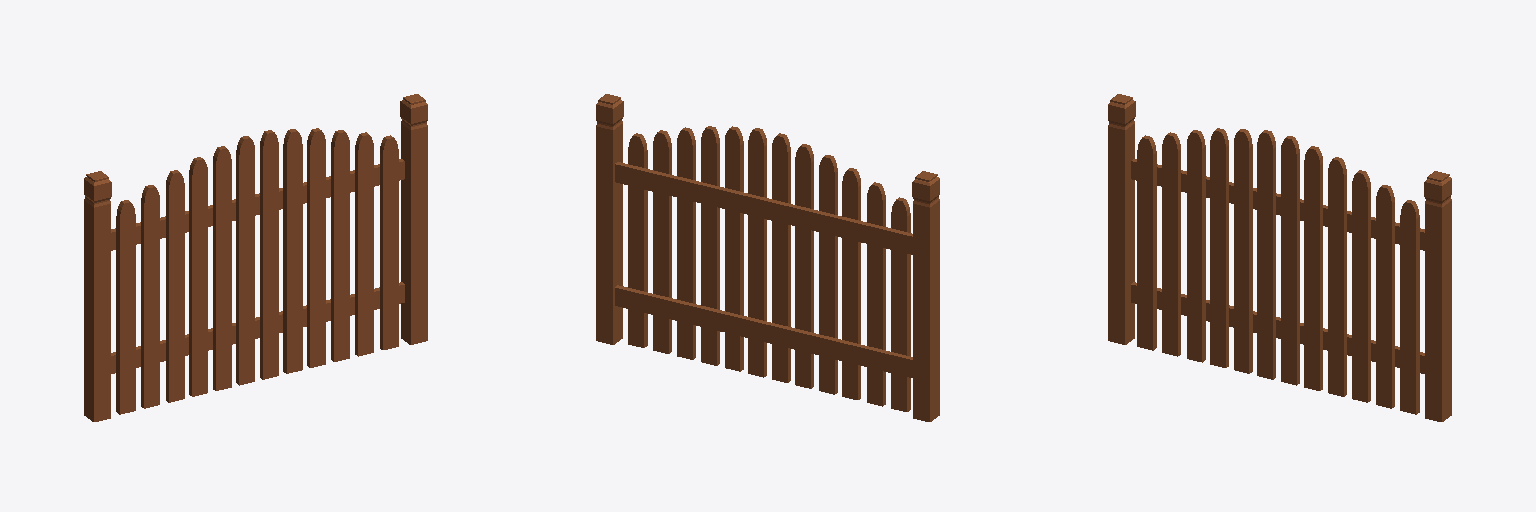
File: m_fence.obj
The picture shows the model from 3 angles: view 1: azimuth 30°, elevation 25°; view 2: azimuth 150°, elevation 25°; view 3: azimuth 330°, elevation 25°; orthographic projection.
Visible parts, largest first — view 1: fencee_Cube.016; view 2: fencee_Cube.016; view 3: fencee_Cube.016.
Part boxes in pixels (bbox=[...]): fencee_Cube.016: bbox=[84, 94, 427, 421]; fencee_Cube.016: bbox=[596, 94, 939, 421]; fencee_Cube.016: bbox=[1108, 94, 1451, 421].
Bounding box in the file's own units: 2.13 × 1.49 × 0.1126.